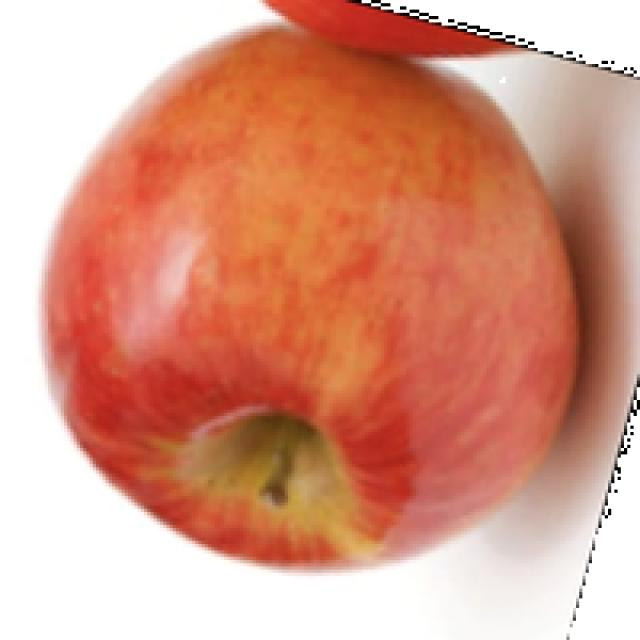apple: (32, 0, 637, 579)
